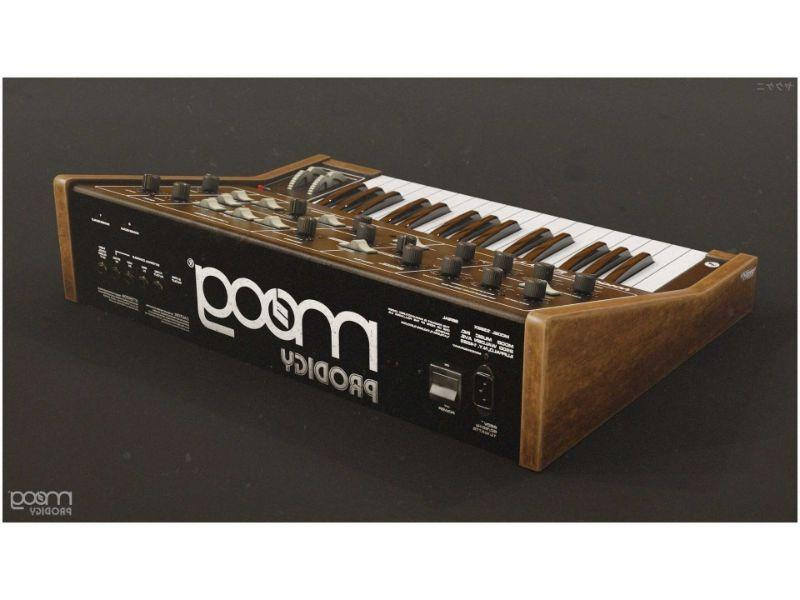synthesizer: (47, 124, 778, 475)
